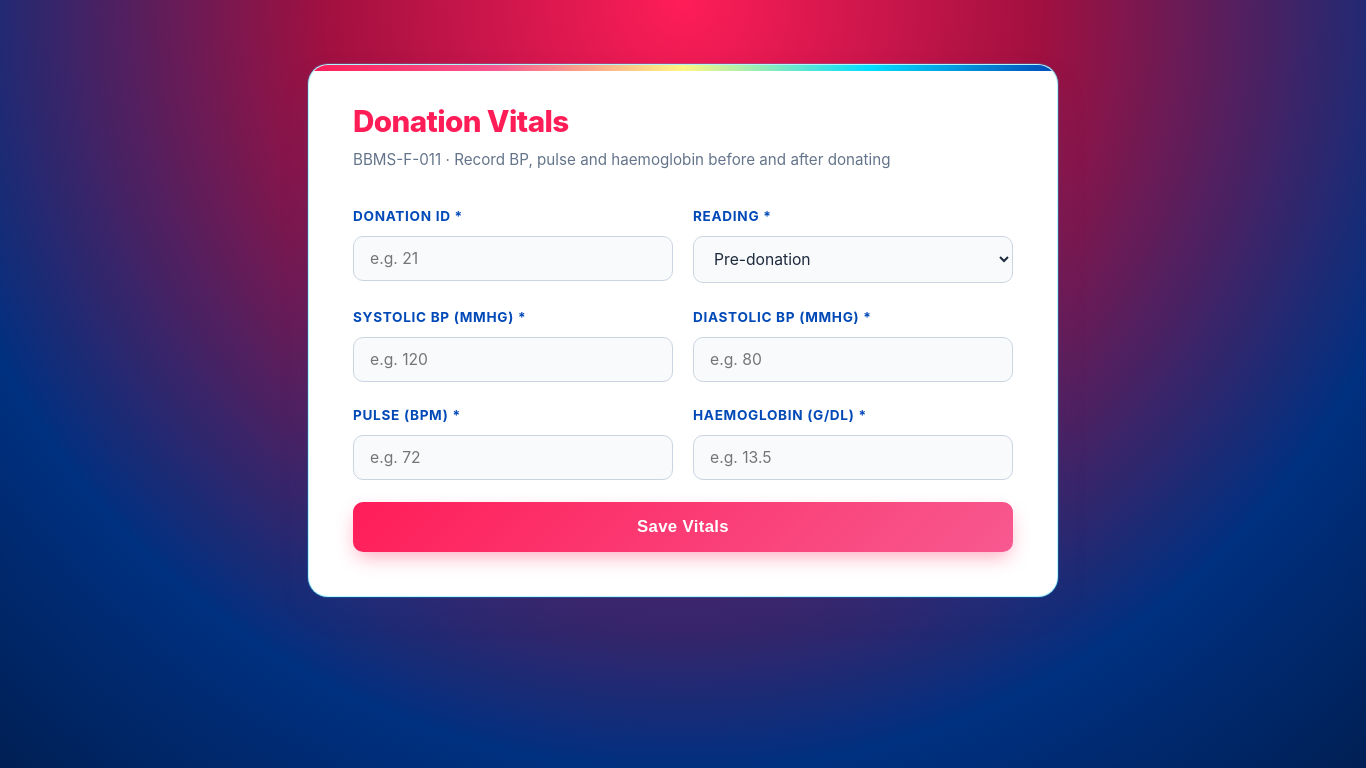
TC-Don-02: DonationVitalsForm (client) › sends pre-donation vitals to the /pre URL and confirms the save (AC 2)
Type "21" into the number field labelled "Donation ID *" at [513, 259], box top-left (353, 236), bottom-right (673, 281)
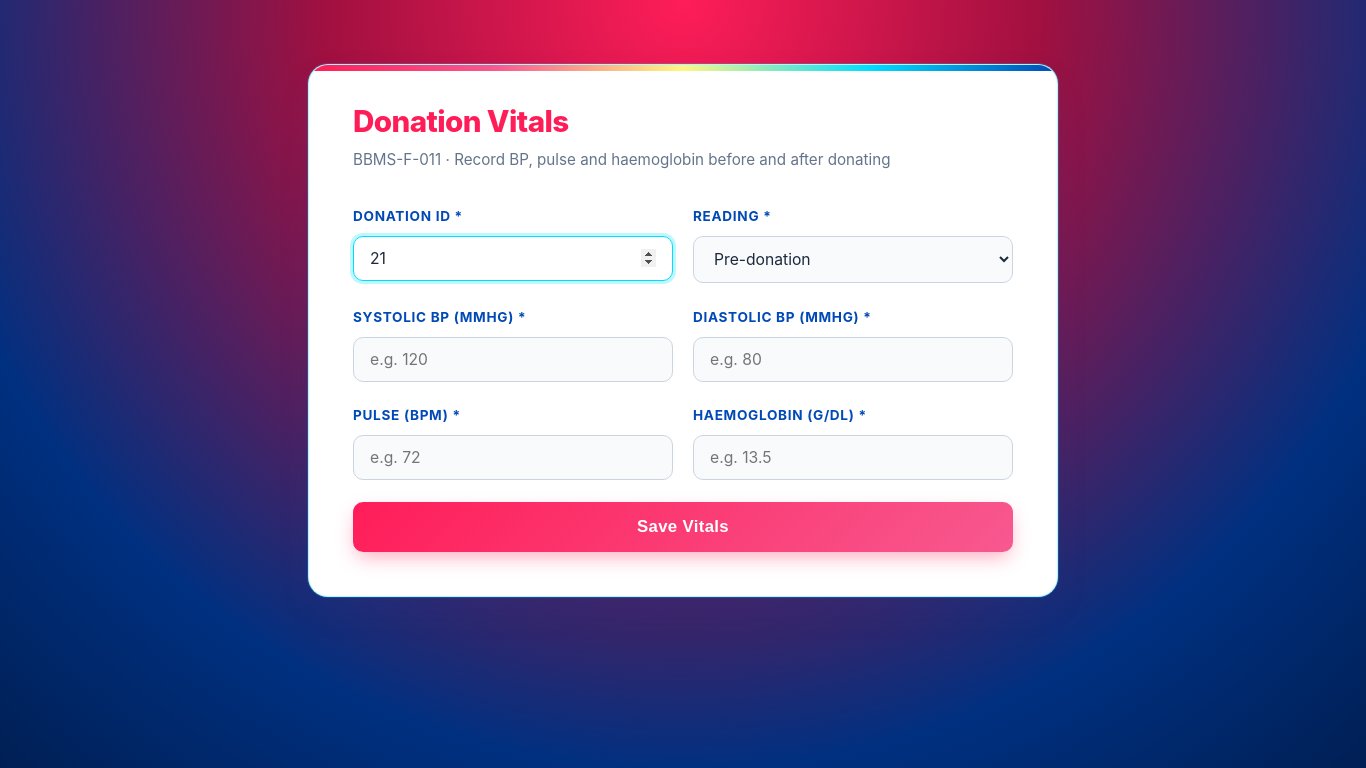
Type "120" into the number field labelled "Systolic BP (mmHg) *" at [513, 359], box top-left (353, 337), bottom-right (673, 382)
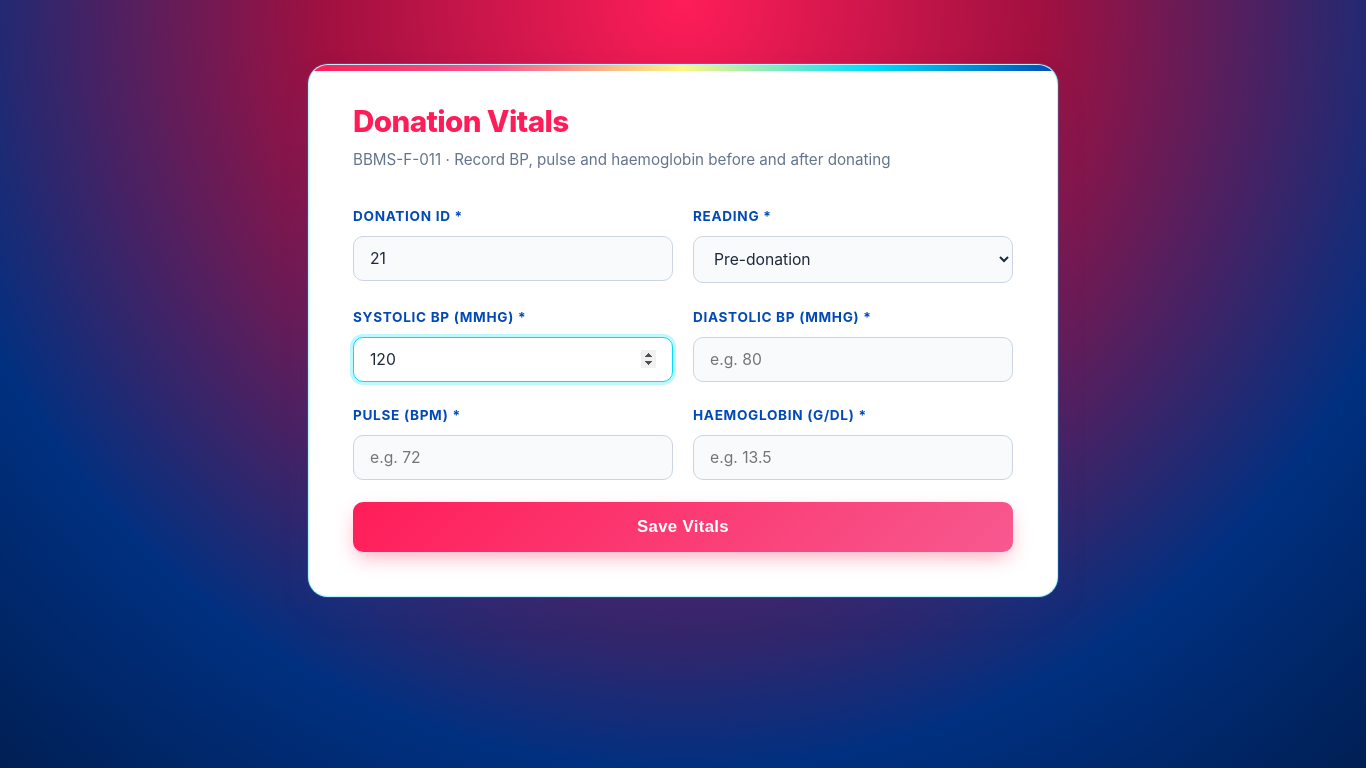
Type "80" into the number field labelled "Diastolic BP (mmHg) *" at [853, 359], box top-left (693, 337), bottom-right (1013, 382)
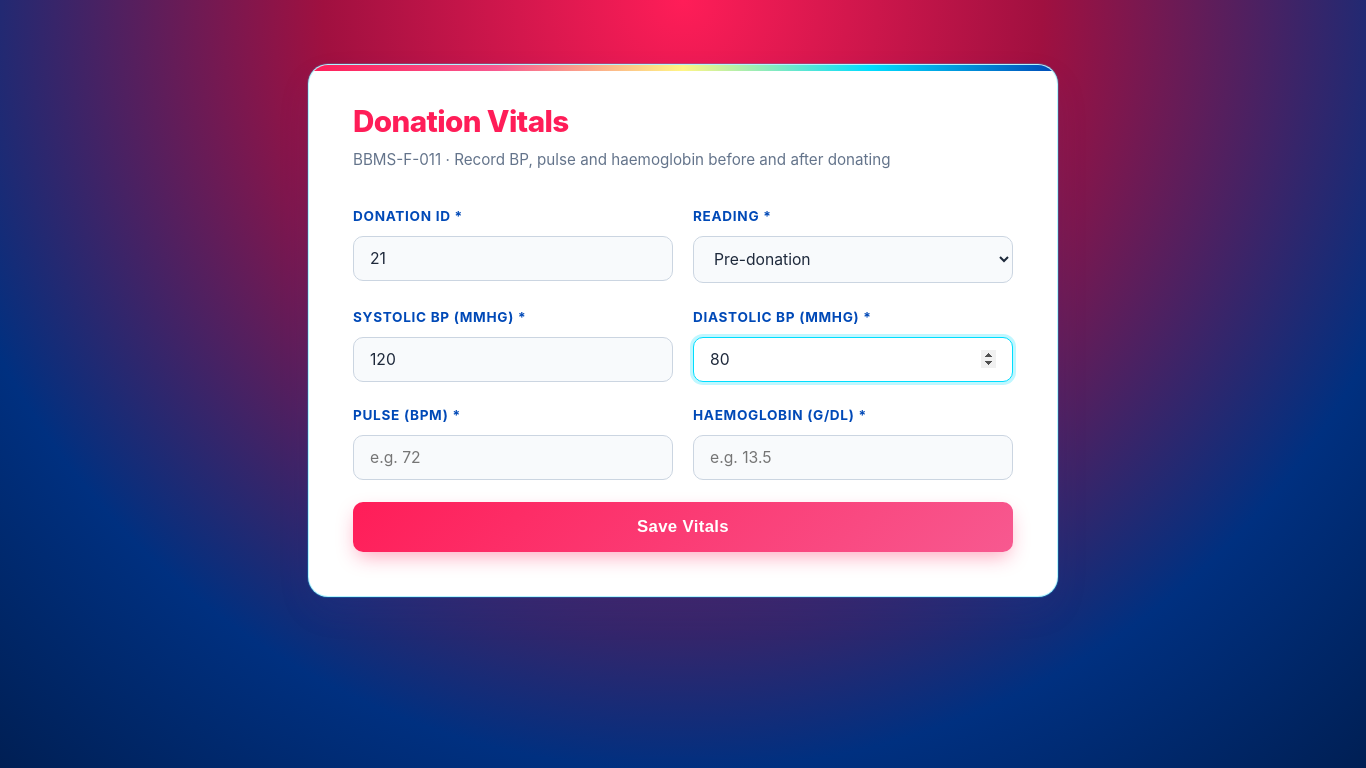
Type "72" into the number field labelled "Pulse (bpm) *" at [513, 458], box top-left (353, 435), bottom-right (673, 480)
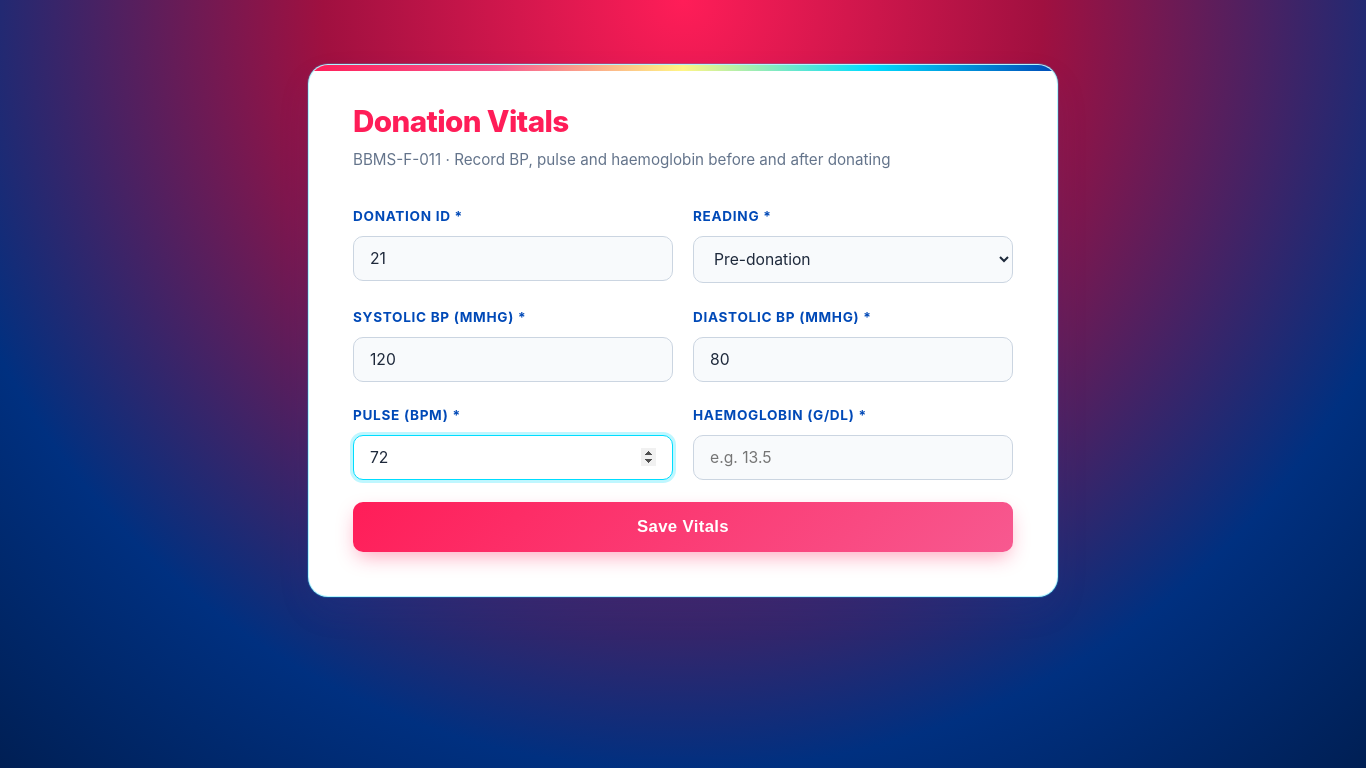
Type "13.5" into the number field labelled "Haemoglobin (g/dL) *" at [853, 458], box top-left (693, 435), bottom-right (1013, 480)
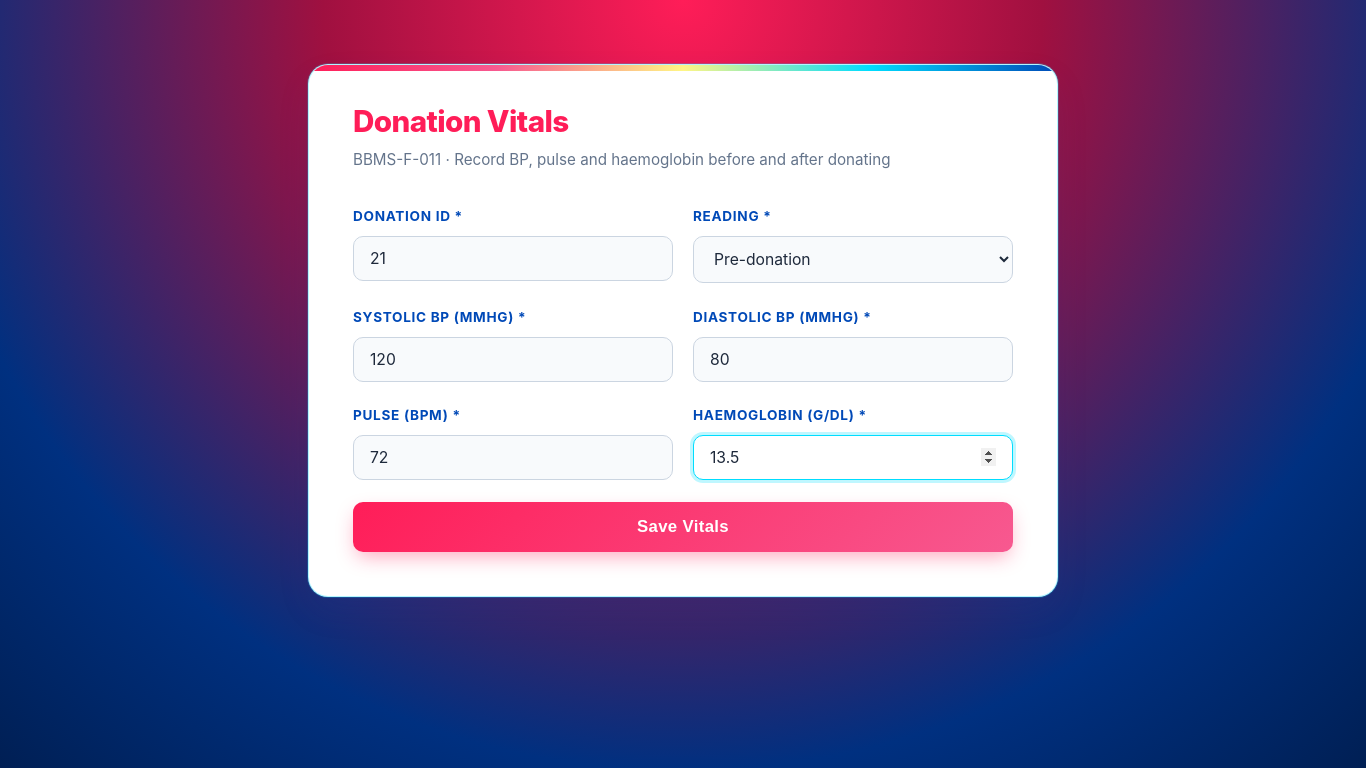
Click the button "Save Vitals" at [683, 527], box top-left (353, 502), bottom-right (1013, 552)
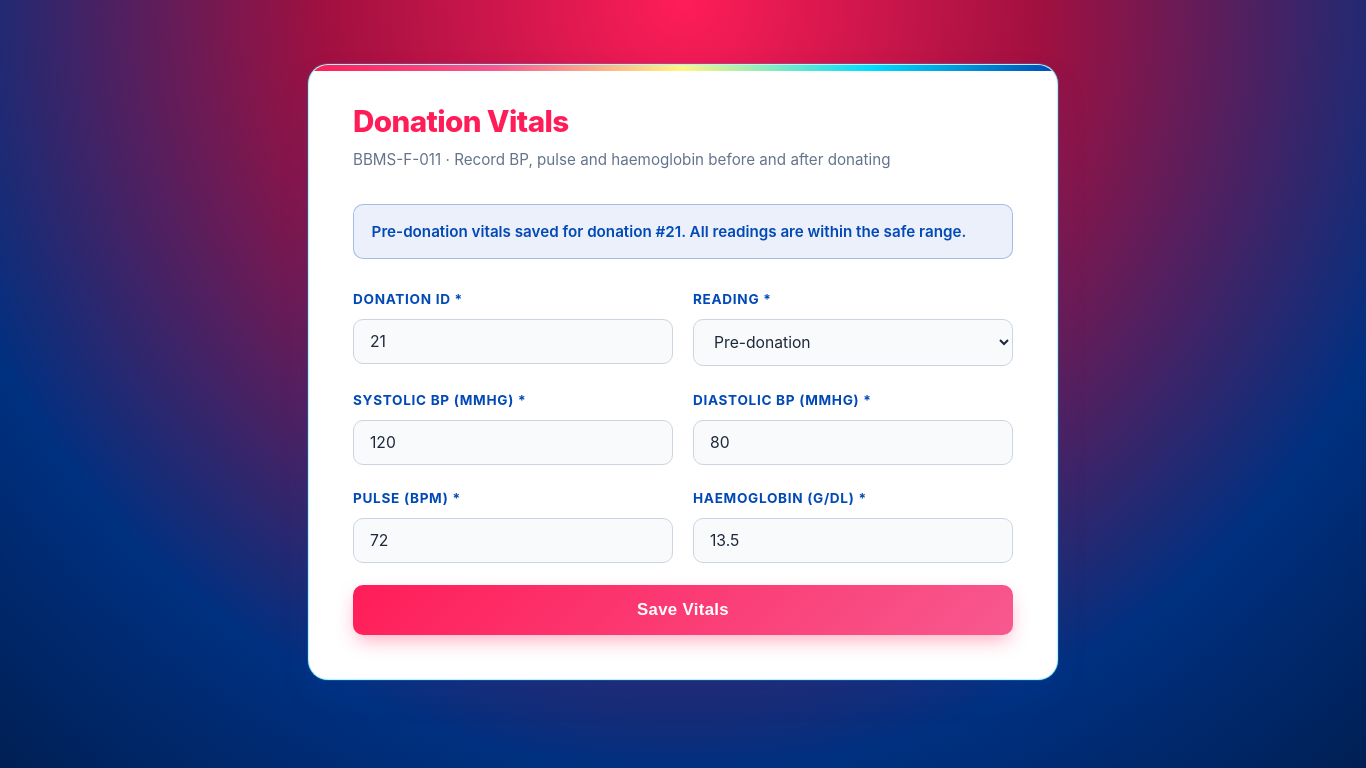
Check: the message shows "Pre-donation vitals saved for donation #21. All readings are within the safe range.", box top-left (353, 204), bottom-right (1013, 259)
